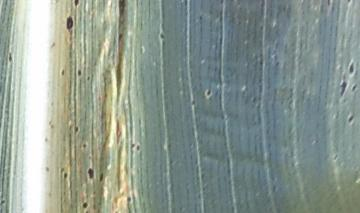tarspot: (62, 14, 76, 33), (83, 164, 97, 183), (4, 47, 17, 67), (345, 58, 358, 77), (343, 111, 359, 126), (339, 79, 349, 98), (71, 123, 83, 136), (45, 120, 57, 132), (114, 30, 125, 43), (123, 193, 136, 204), (74, 66, 84, 80), (97, 170, 106, 185), (157, 31, 168, 43), (188, 97, 199, 108), (58, 67, 68, 79), (204, 87, 214, 99), (80, 139, 90, 151), (194, 13, 207, 22), (80, 198, 89, 210), (350, 82, 359, 94), (41, 135, 51, 145), (61, 171, 71, 180), (84, 73, 92, 84), (43, 164, 51, 175), (72, 1, 81, 9), (136, 141, 142, 153), (345, 1, 356, 6), (128, 141, 134, 149), (217, 1, 226, 6)
